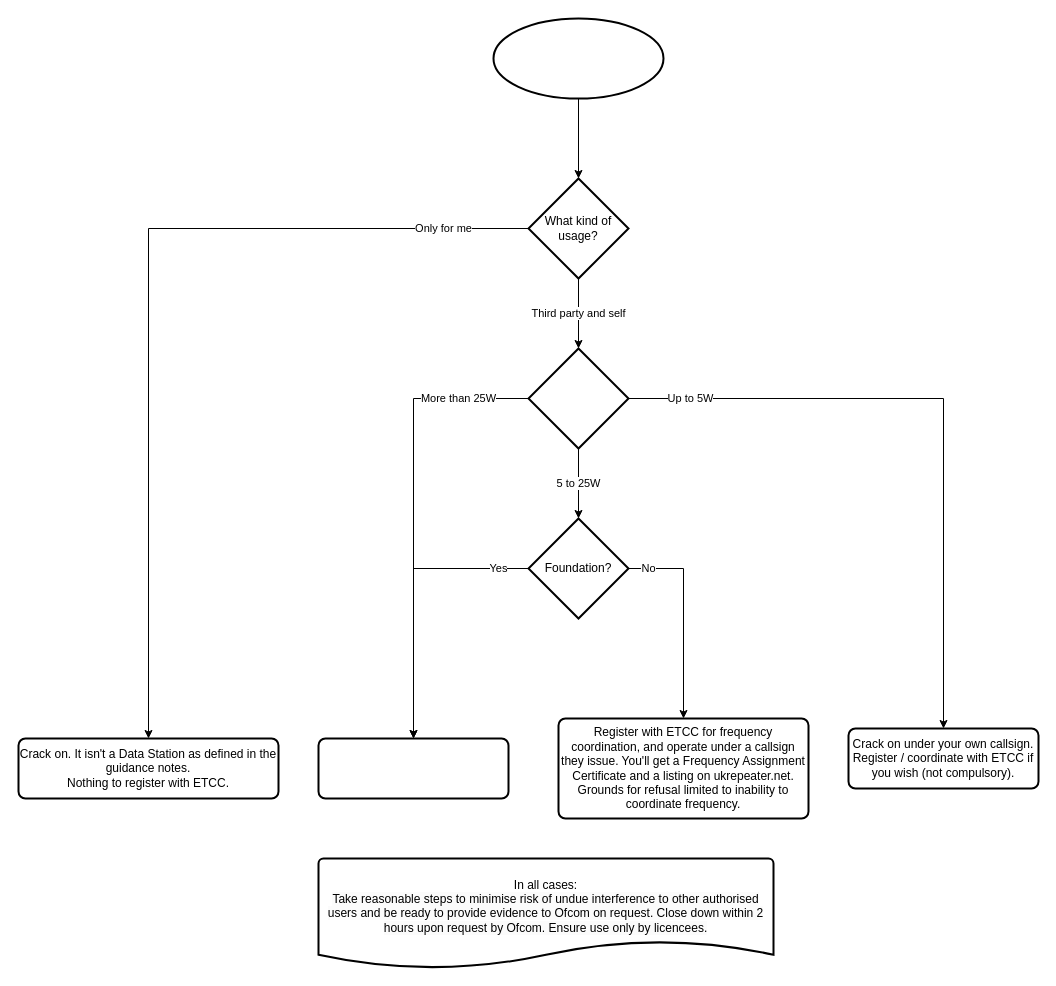
Some shapes in this 1056 by 986 pixel diagram are drawn without their labels. Each missing label, with the centre of its shape:
"I think I want/need to run a Data Station, as in Condition 6 section 17/18" goes at point 578,58.
"Power (ERP)" goes at point 578,398.
"Sorry, not permitted under this procedure" goes at point 413,768.
